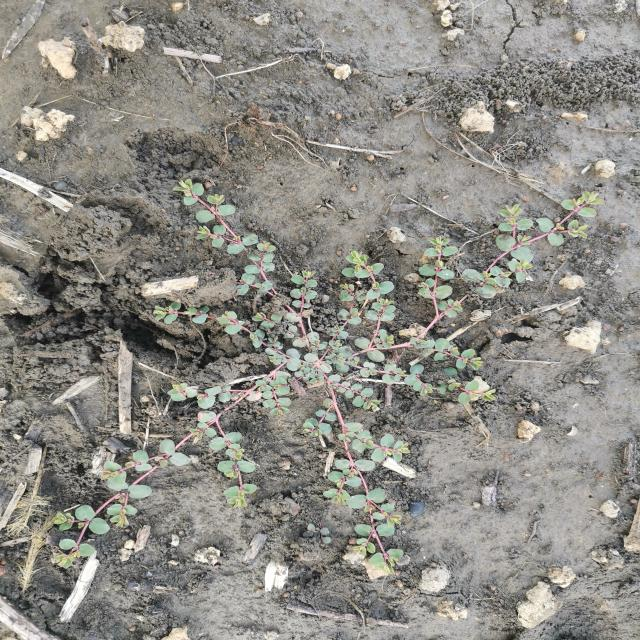SpottedSpurge: (48, 177, 605, 583)
